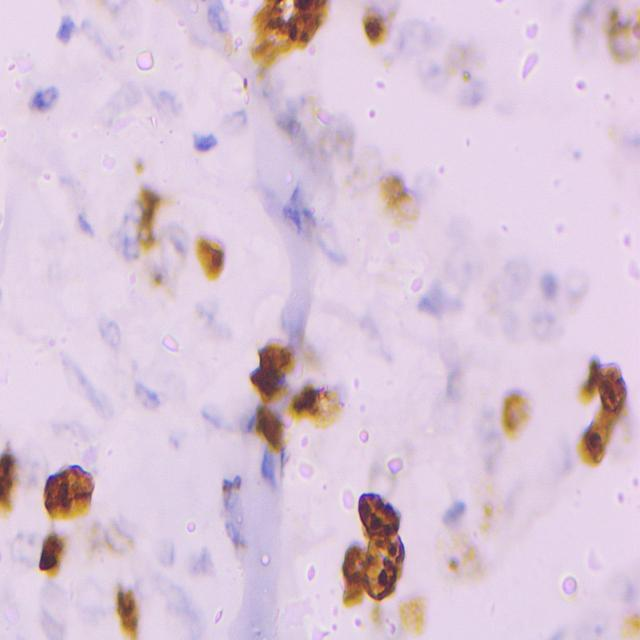Healthy cell: (523, 266, 580, 344), (279, 187, 333, 238), (98, 76, 148, 129), (415, 273, 468, 315), (466, 474, 505, 526), (114, 206, 144, 265), (95, 316, 132, 359), (72, 208, 107, 250), (9, 533, 35, 582), (189, 540, 217, 583), (54, 10, 86, 47), (198, 0, 232, 33), (152, 79, 180, 117), (130, 383, 163, 412), (28, 85, 62, 111), (415, 15, 445, 44), (466, 79, 492, 105), (190, 136, 214, 152)
cancer-cell-QiJm: (294, 90, 370, 184), (253, 0, 329, 82), (40, 450, 98, 520), (289, 382, 351, 436), (489, 381, 539, 442), (197, 222, 235, 300), (372, 163, 420, 221), (580, 404, 622, 470), (585, 350, 629, 412), (0, 439, 32, 520), (224, 473, 256, 552), (366, 530, 402, 600), (137, 185, 169, 263), (606, 0, 638, 78), (357, 0, 403, 54), (438, 532, 487, 577), (358, 491, 404, 538), (247, 399, 290, 449), (88, 519, 134, 560), (339, 543, 366, 608), (256, 336, 300, 375), (253, 359, 292, 402), (393, 594, 426, 640), (443, 34, 472, 84), (114, 581, 137, 640), (617, 595, 640, 639), (35, 530, 51, 589), (142, 266, 168, 295), (219, 30, 238, 62)
